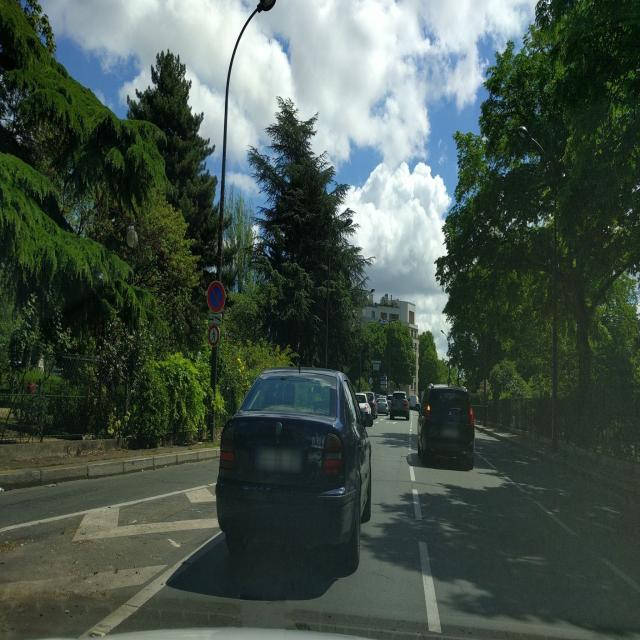forb_stopping: (207, 281, 226, 314)
